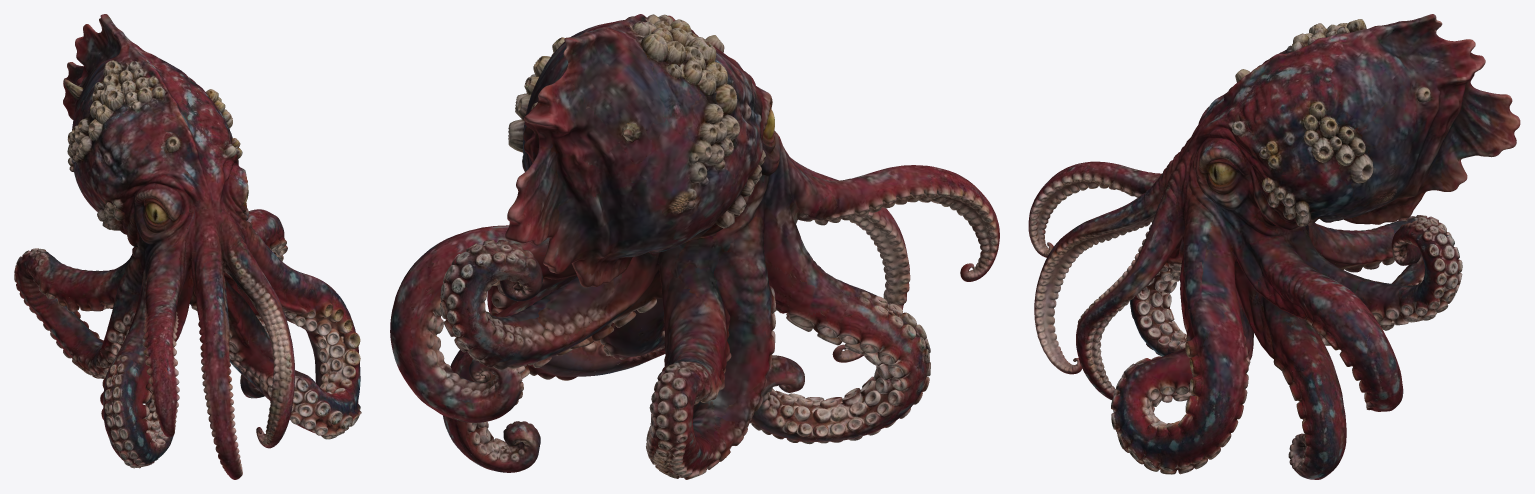
Rendered from grab3d-kraken.glb.
3 renders of one model, left to right at view 1: azimuth 30°, elevation 25°; view 2: azimuth 150°, elevation 25°; view 3: azimuth 270°, elevation 25°, orthographic. The views are drawn at different scales.
Parts seen in each view (by area): view 1: kraken; view 2: kraken; view 3: kraken.
Boxes of the visible parts, <box> form: kraken: <box>14,14,361,479</box>; kraken: <box>390,14,999,479</box>; kraken: <box>1028,14,1520,479</box>.
Size of the model in its own units: 2.18 by 2.75 by 3.
1 material, 1 textured.
